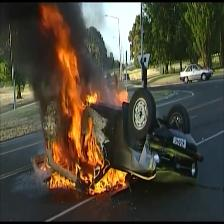fire: (40, 4, 128, 196), (120, 90, 128, 105)
